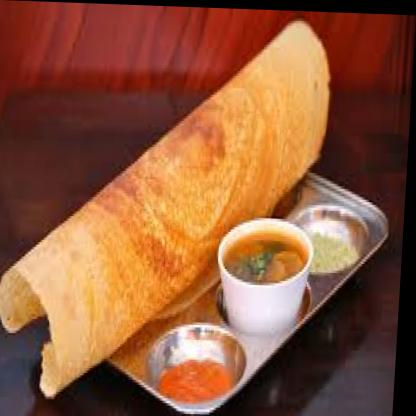dosa: (0, 11, 333, 405)
